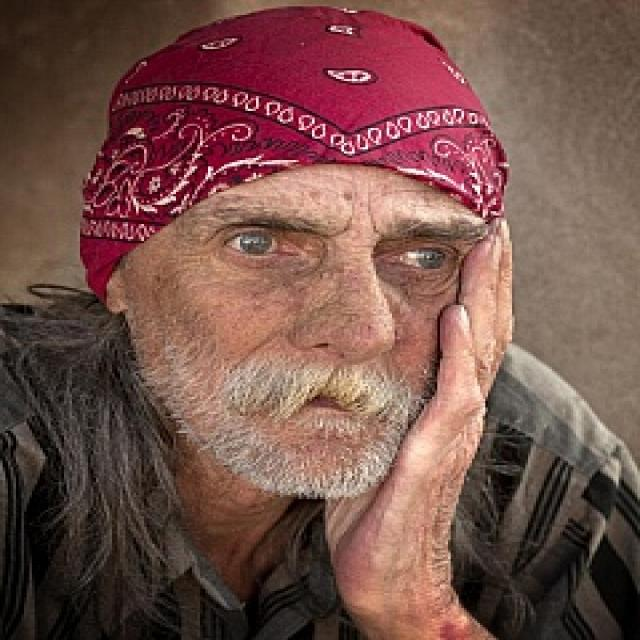Eyes: (205, 198, 478, 284)
